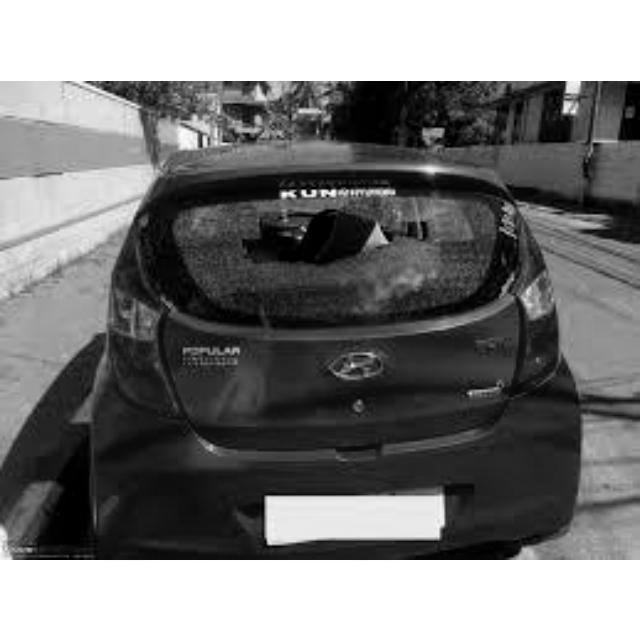Rear-windscreen-Damage: (121, 169, 543, 371)
